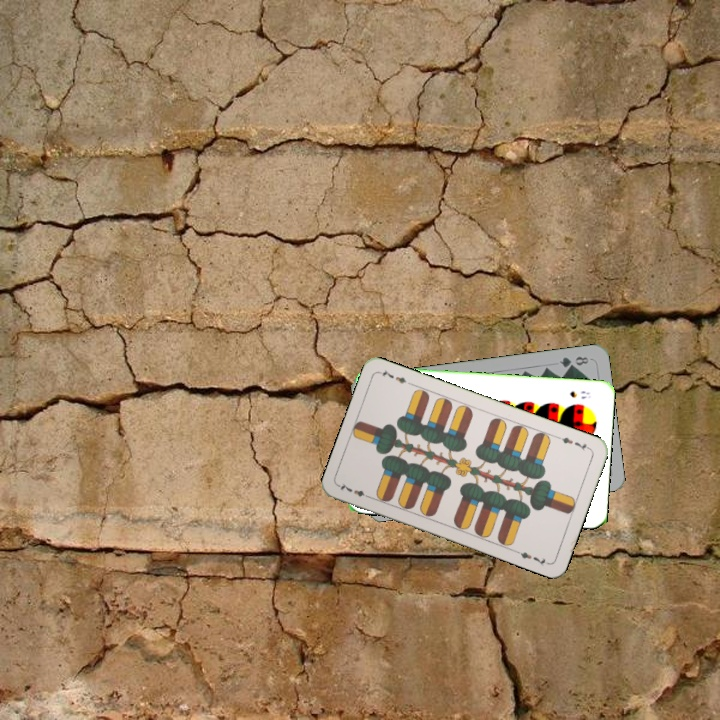E7: (553, 432, 593, 454), (335, 479, 374, 501)
G8: (556, 352, 591, 370)
S8: (566, 387, 593, 401)
